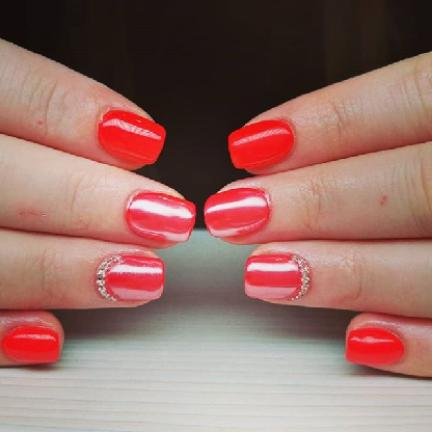Nail: (97, 109, 165, 165), (125, 192, 196, 243), (96, 253, 165, 302), (204, 188, 270, 238), (229, 120, 294, 169), (245, 253, 310, 299), (346, 327, 404, 365), (2, 326, 59, 364)
